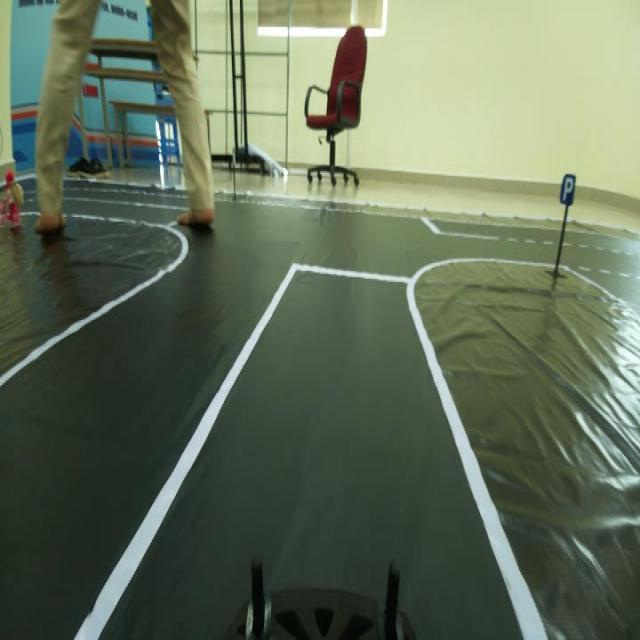parking: (558, 162, 580, 216)
